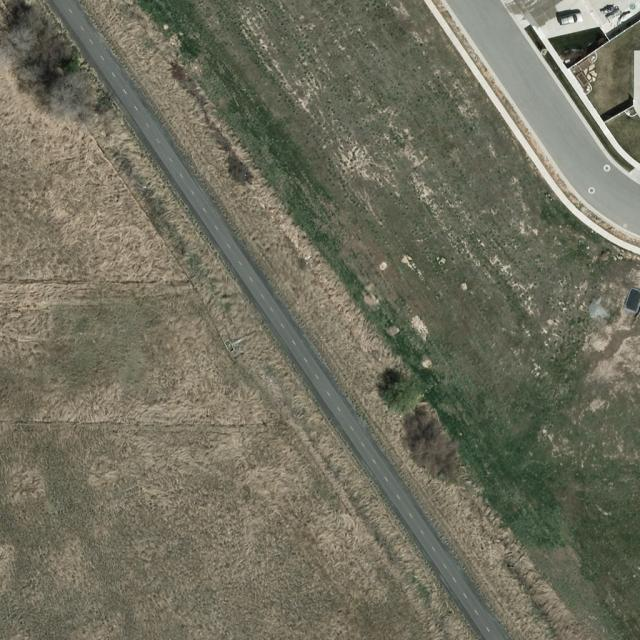vehicle: (558, 12, 584, 27)
